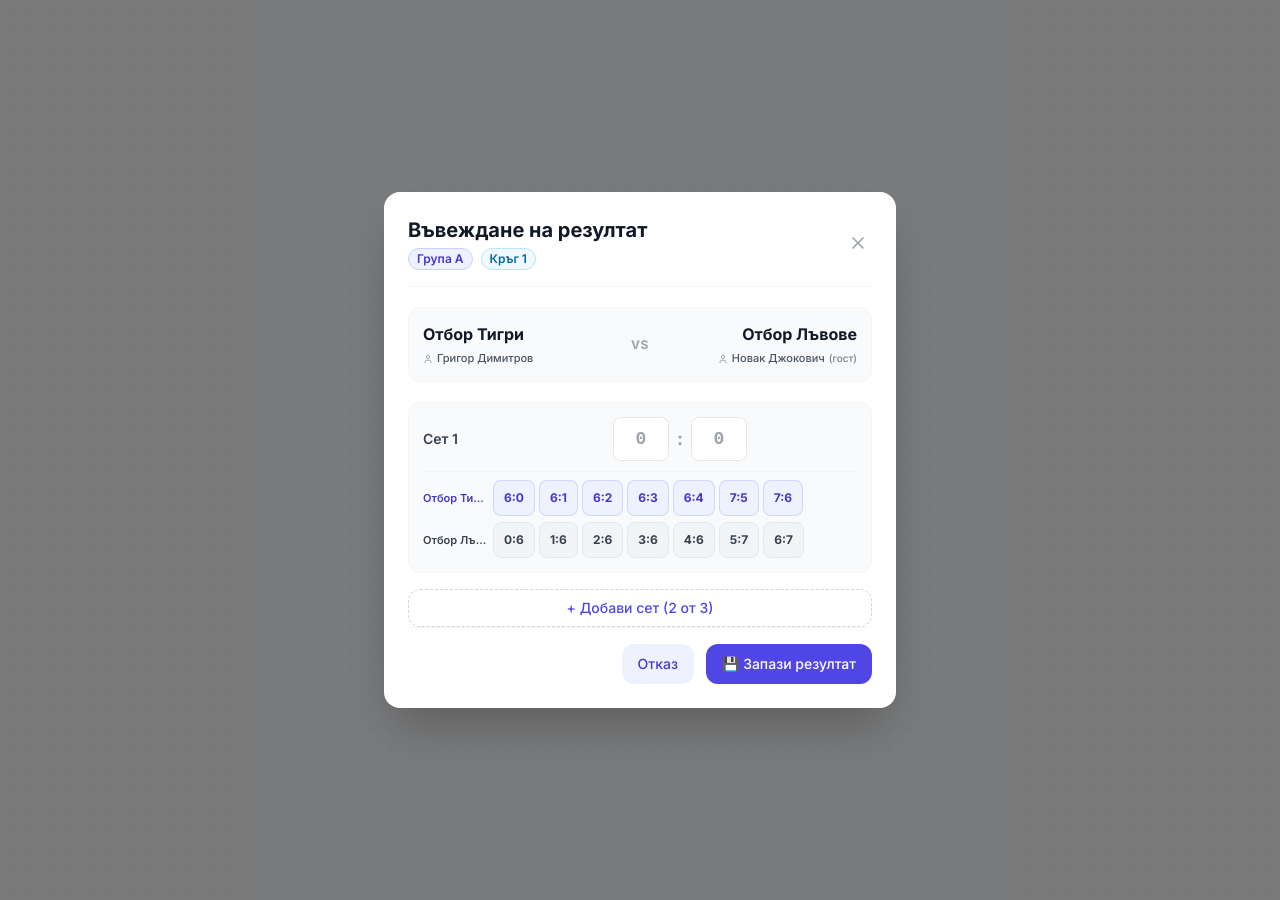
Test: TournamentScoreModal Component › shows error validation when 1-1 tie in 2 sets is saved without deciding set
The width and height of the screenshot is (1280, 900).
Click the button "+ Добави сет (2 от 3)". click: (640, 608)
box: [408,589,872,627]
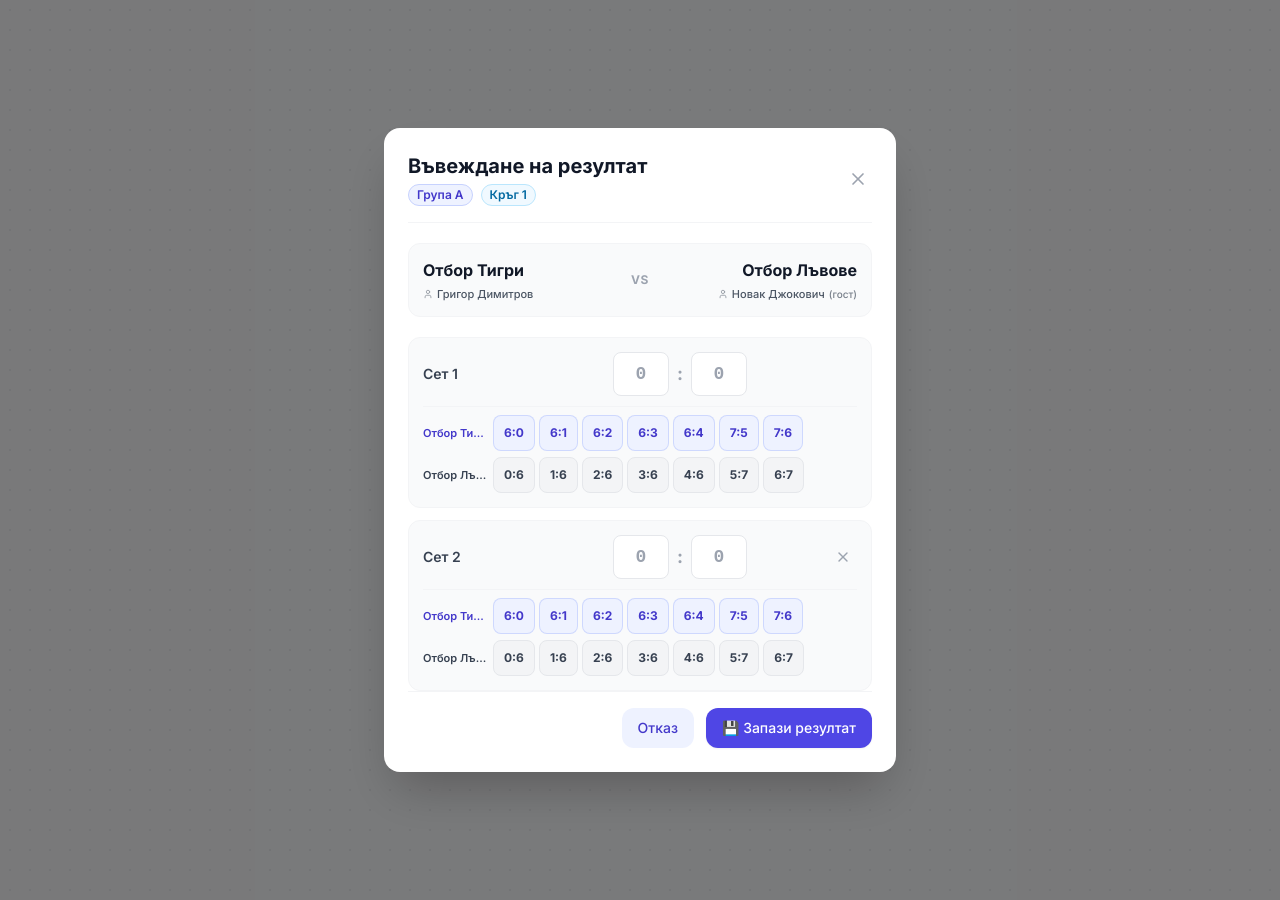
Type "6" into the field named "Сет 1 Отбор 1". click: (641, 374)
box: [613,352,669,396]
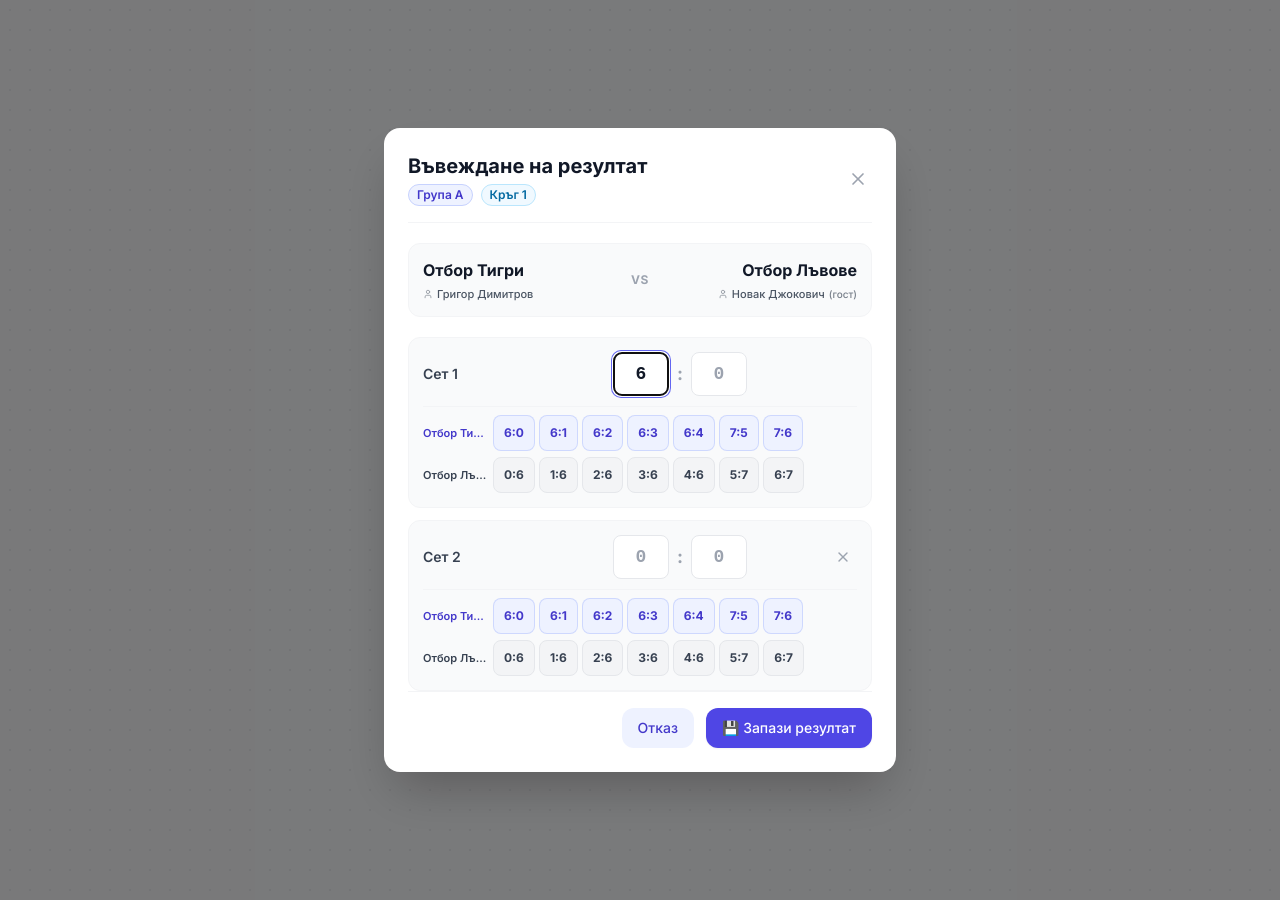
Type "4" into the field named "Сет 1 Отбор 2". click: (719, 374)
box: [691,352,747,396]
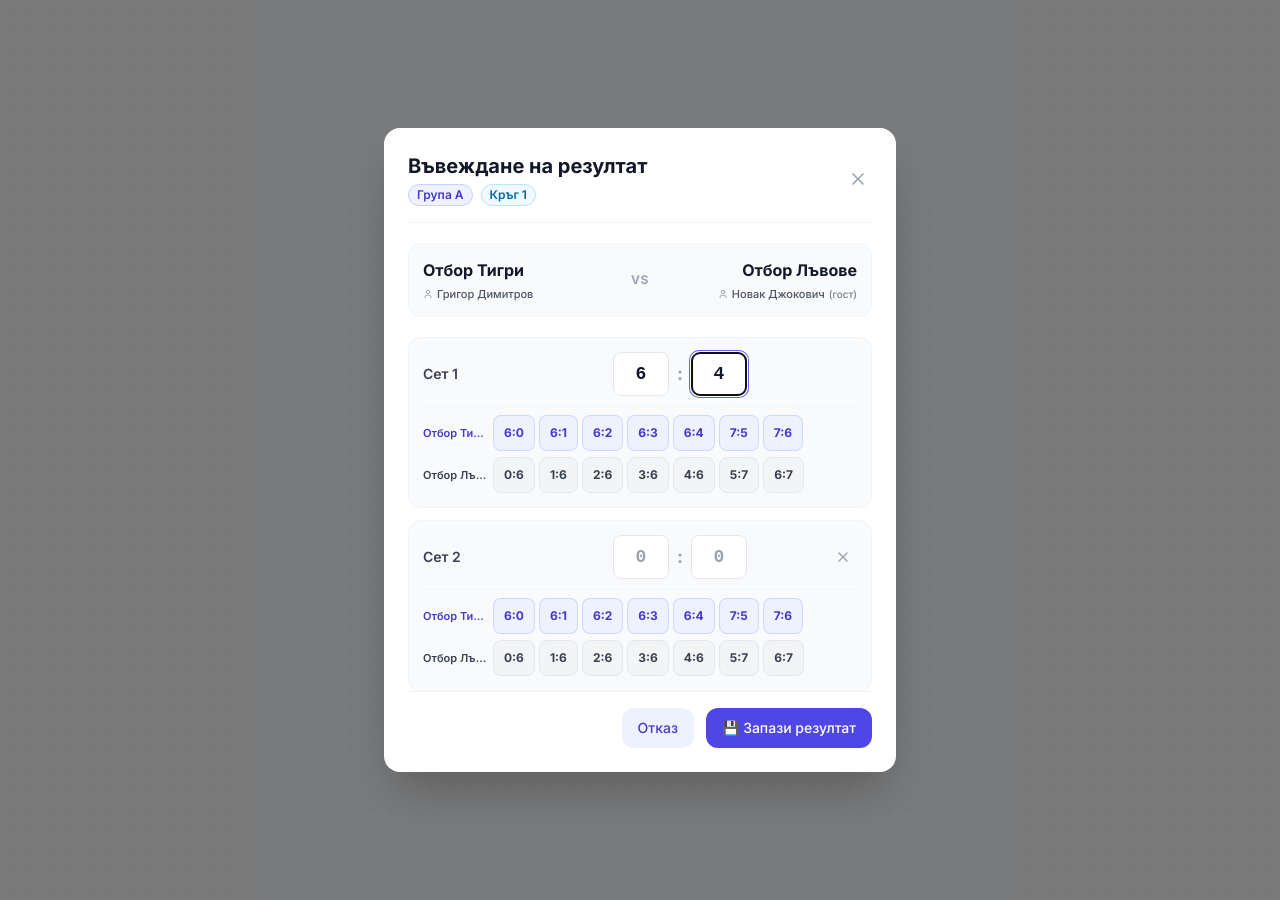
Type "3" into the field named "Сет 2 Отбор 1". click: (641, 557)
box: [613,535,669,579]
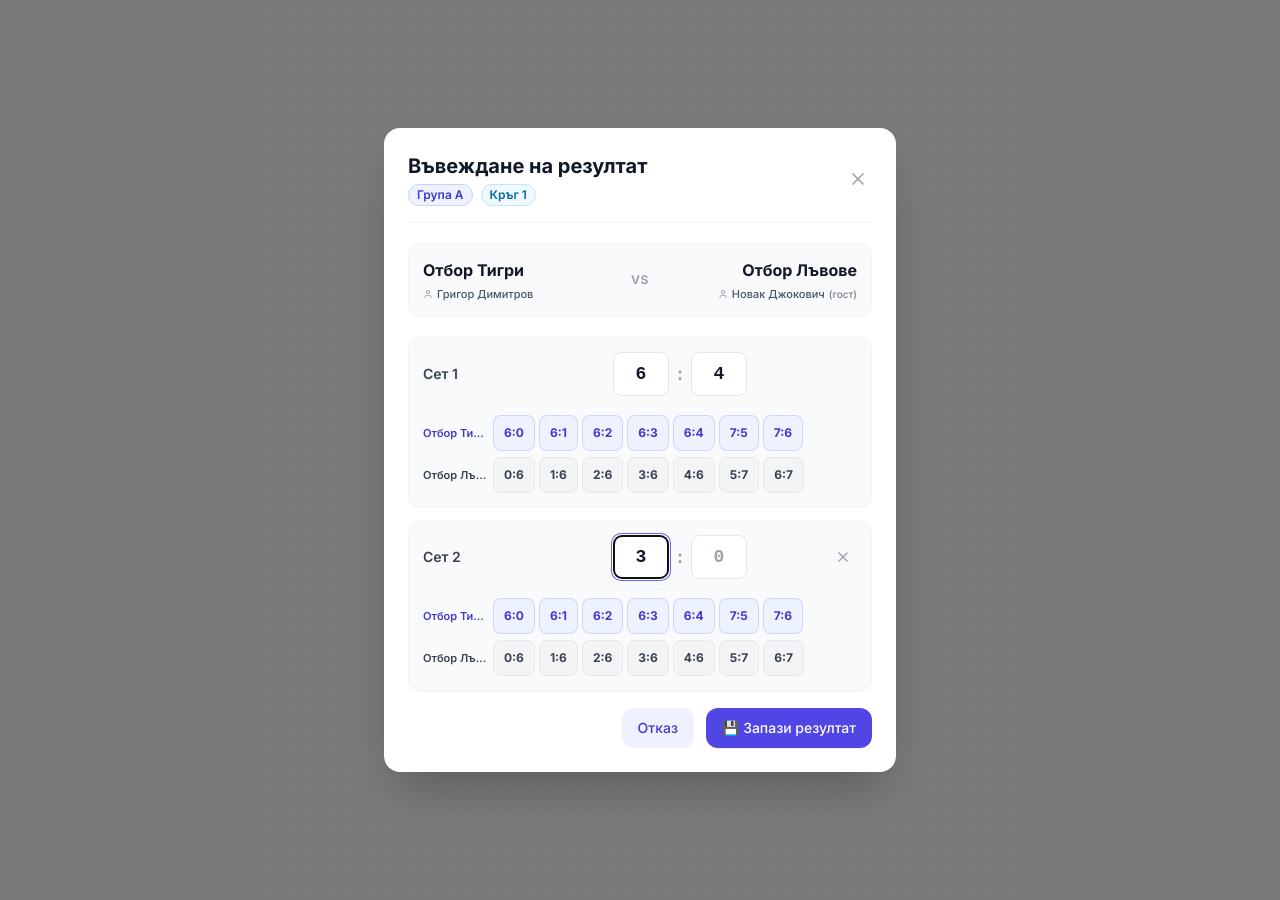
Type "6" into the field named "Сет 2 Отбор 2". click: (719, 557)
box: [691,535,747,579]
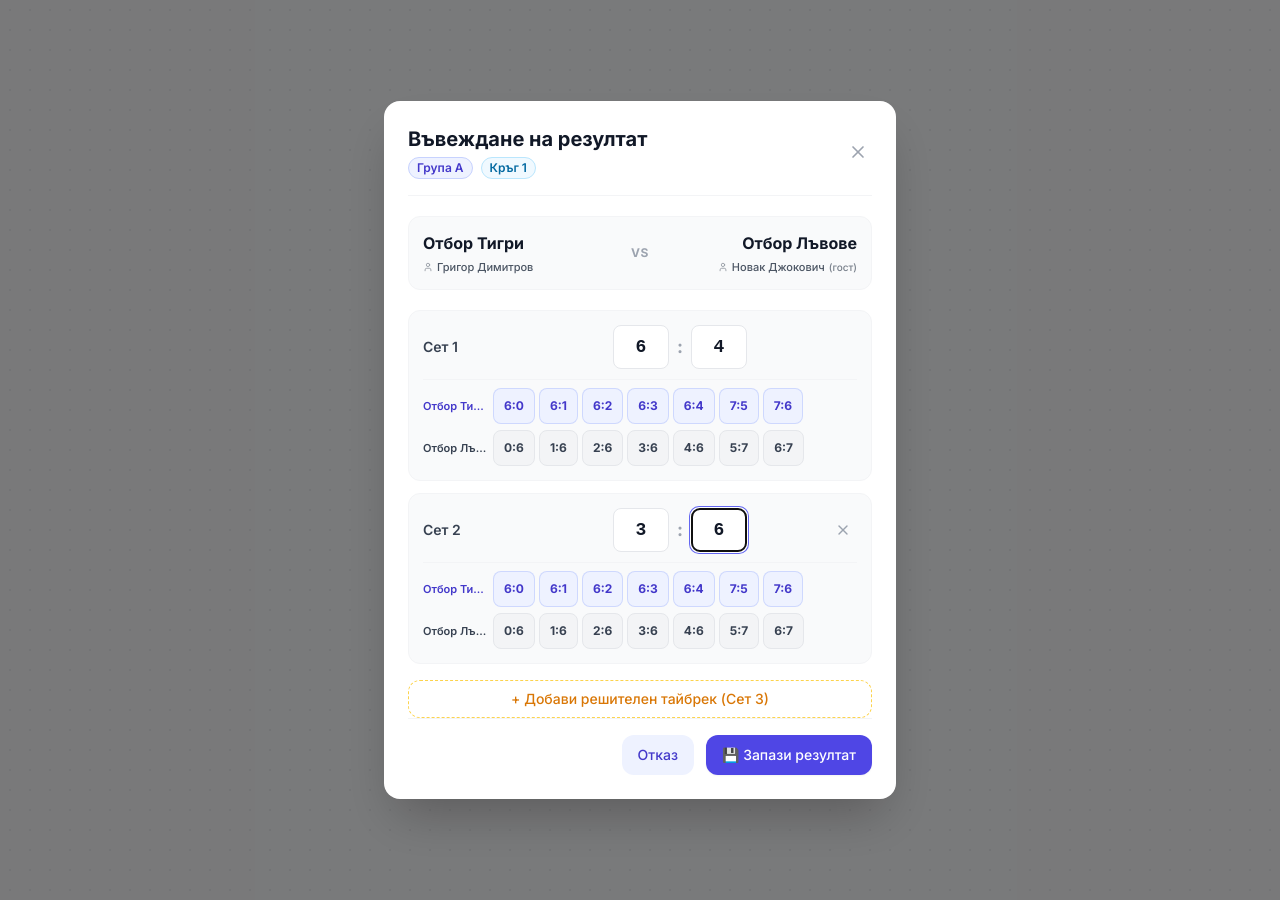
Click the button "💾 Запази резултат". click: (789, 755)
box: [706,735,872,775]
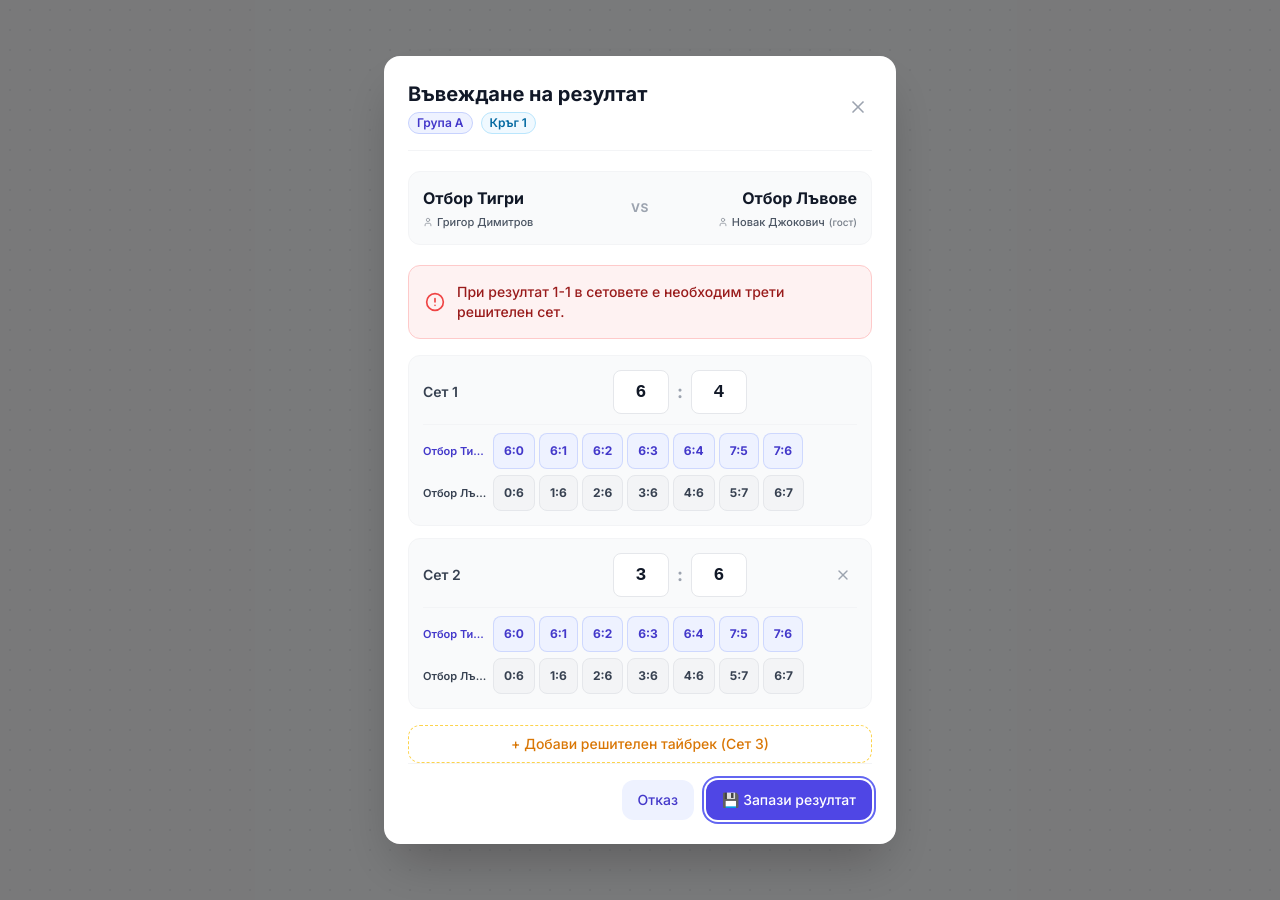
Result: the text "При резултат 1-1 в сетовете е необходим трети решителен сет." is shown at [457,283,784,320]
